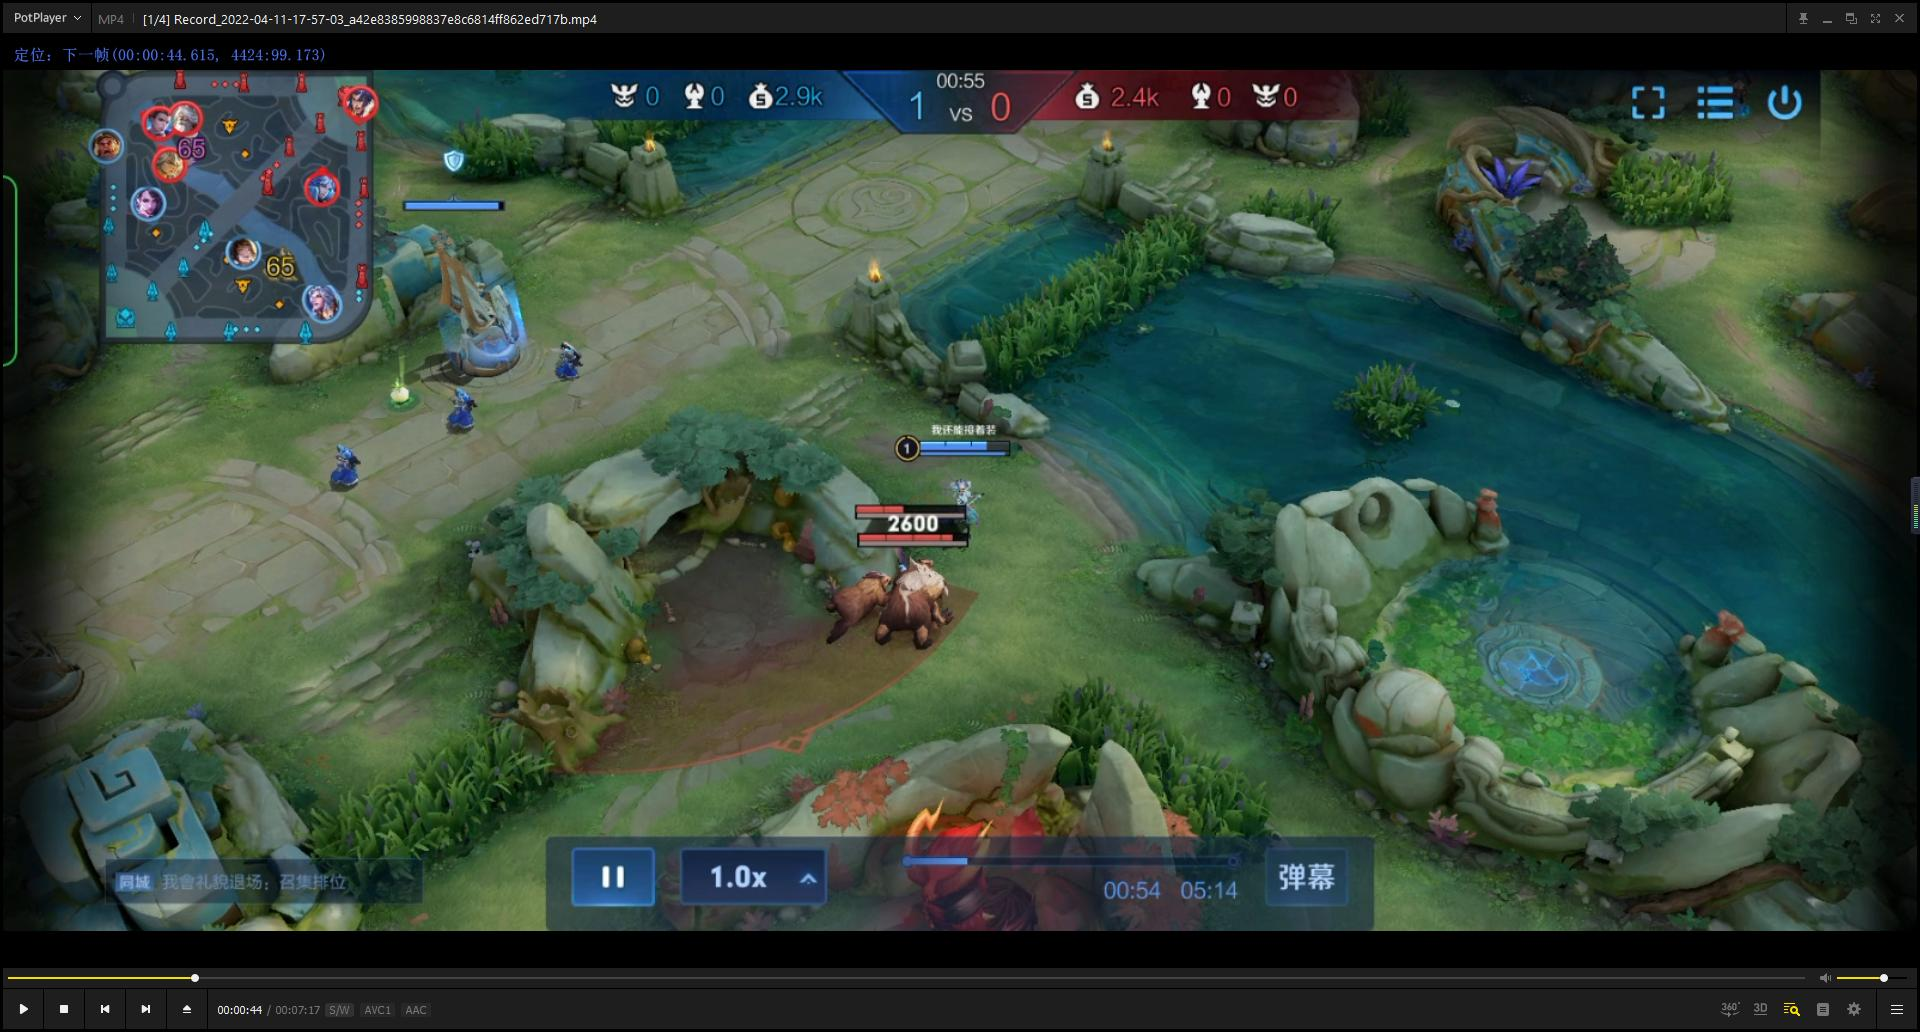Buff: (842, 799, 1039, 927)
Hero: (931, 463, 1006, 531)
Pig: (849, 543, 1005, 672), (813, 531, 889, 632)
Solider: (537, 327, 606, 413), (304, 428, 377, 505), (429, 377, 477, 449)
Tower: (390, 175, 541, 386)
